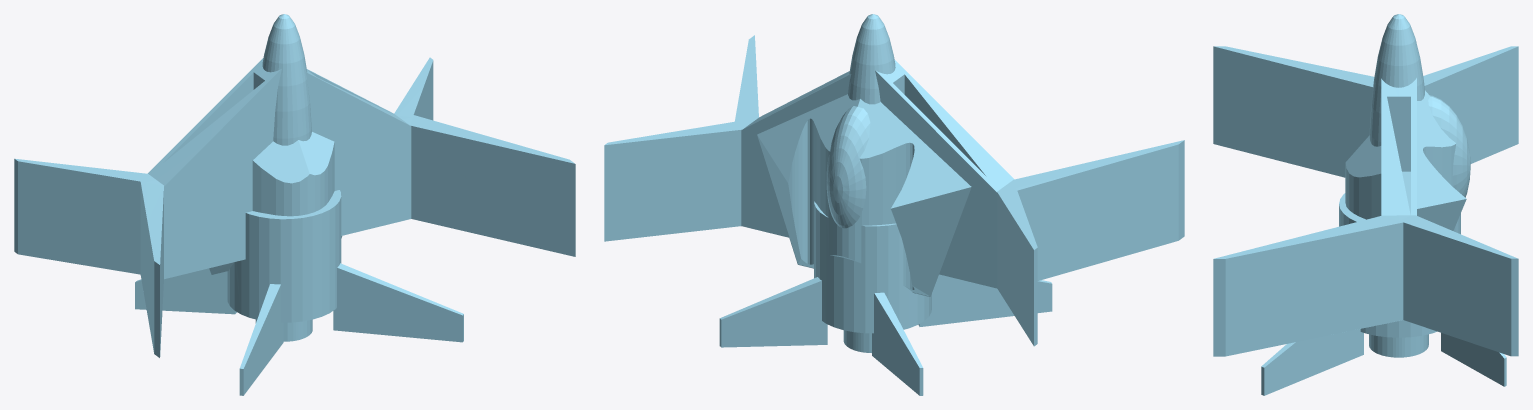
3 renders of one model, left to right at view 1: azimuth 30°, elevation 25°; view 2: azimuth 150°, elevation 25°; view 3: azimuth 270°, elevation 25°, orthographic. The views are drawn at different scales.
Parts seen in each view (by area): view 1: Object_3; view 2: Object_3; view 3: Object_3.
Boxes of the visible parts, x1=… form: Object_3: x1=14, y1=14, x2=575, y2=395; Object_3: x1=604, y1=14, x2=1184, y2=395; Object_3: x1=1213, y1=14, x2=1518, y2=395.
Size of the model in its own units: 84 by 61 by 51.
